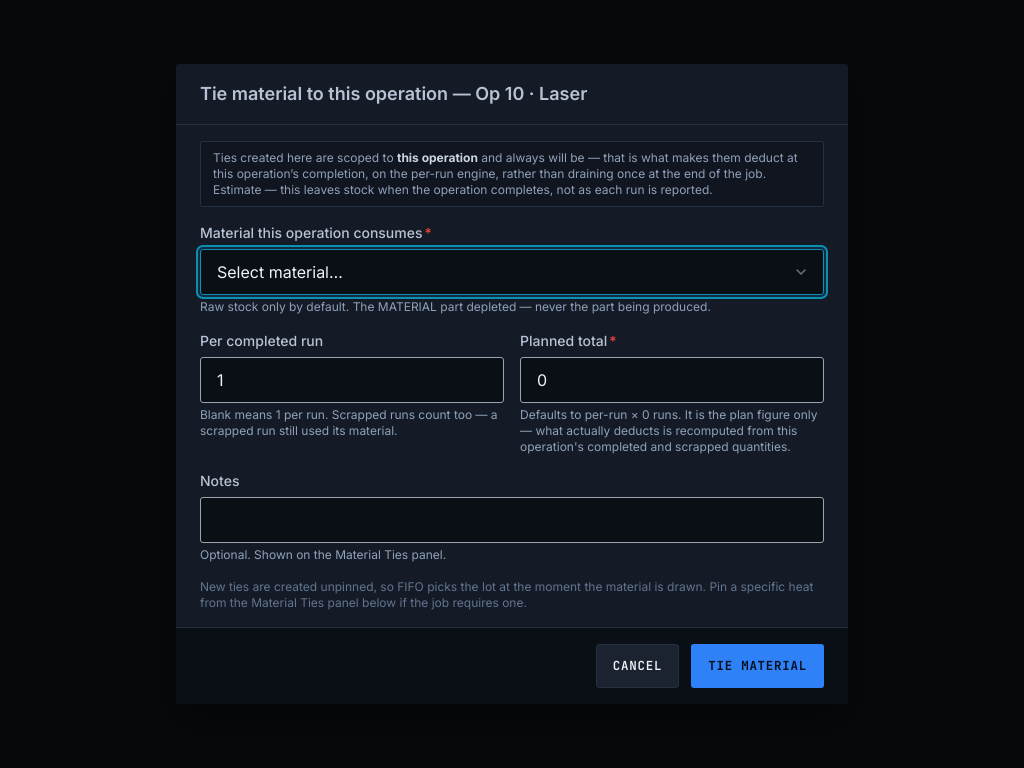
Test: OperationMaterialTieModal: the planned-total default › refuses to submit without a material or with a non-positive plan
Click the button "Tie material".
click(758, 666)  # box [691,644,824,688]
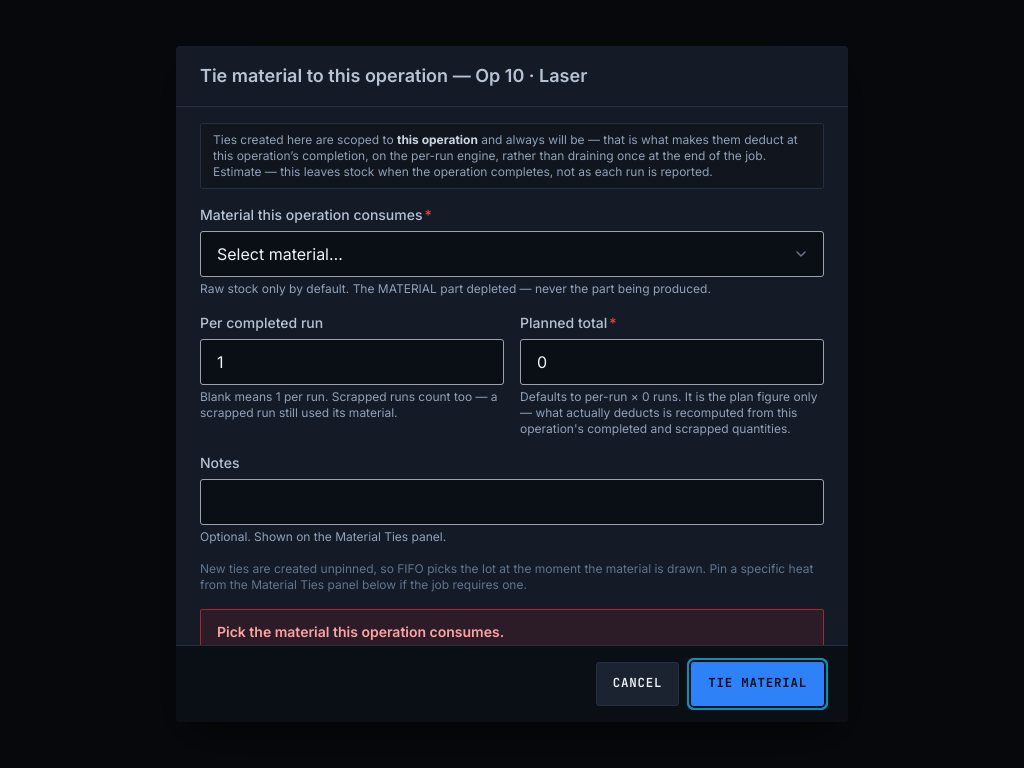
Expected: the message with test id "op-tie-error" shows "Pick the material this operation consumes", [217,623,504,640]
Select "SHT-.125-304 — .125 304 sheet" in the dropdown labelled "Material this operation consumes*" at (512, 254), box [200,231,824,277]
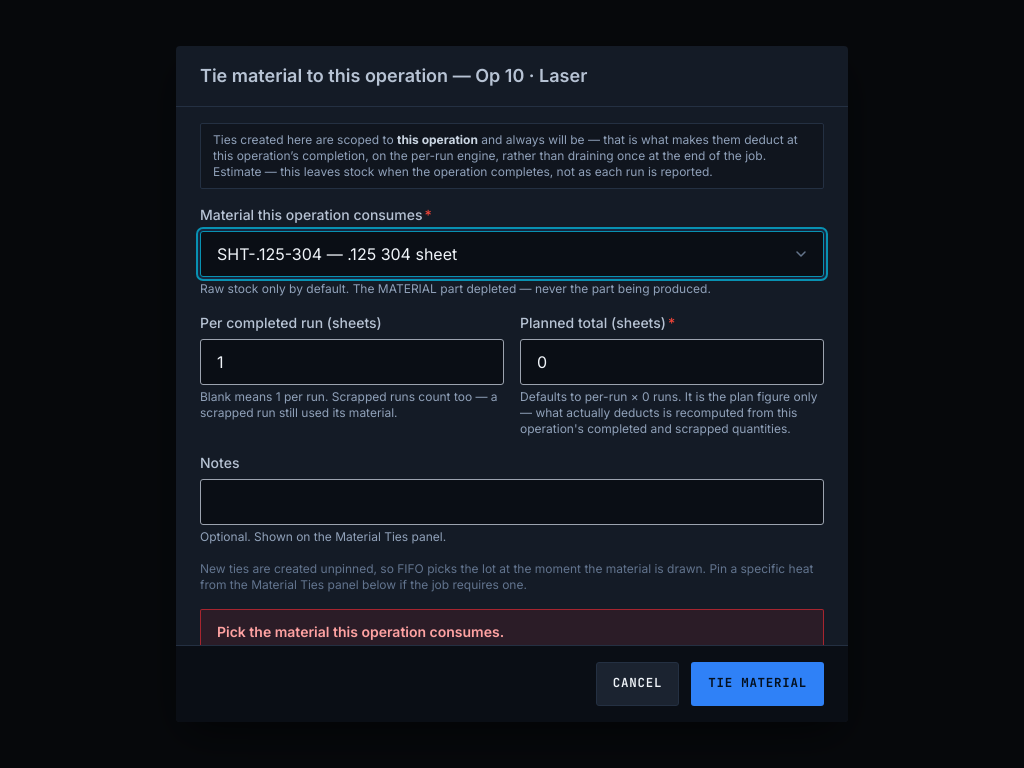
Click the button "Tie material".
click(758, 684)  # box [691,662,824,706]
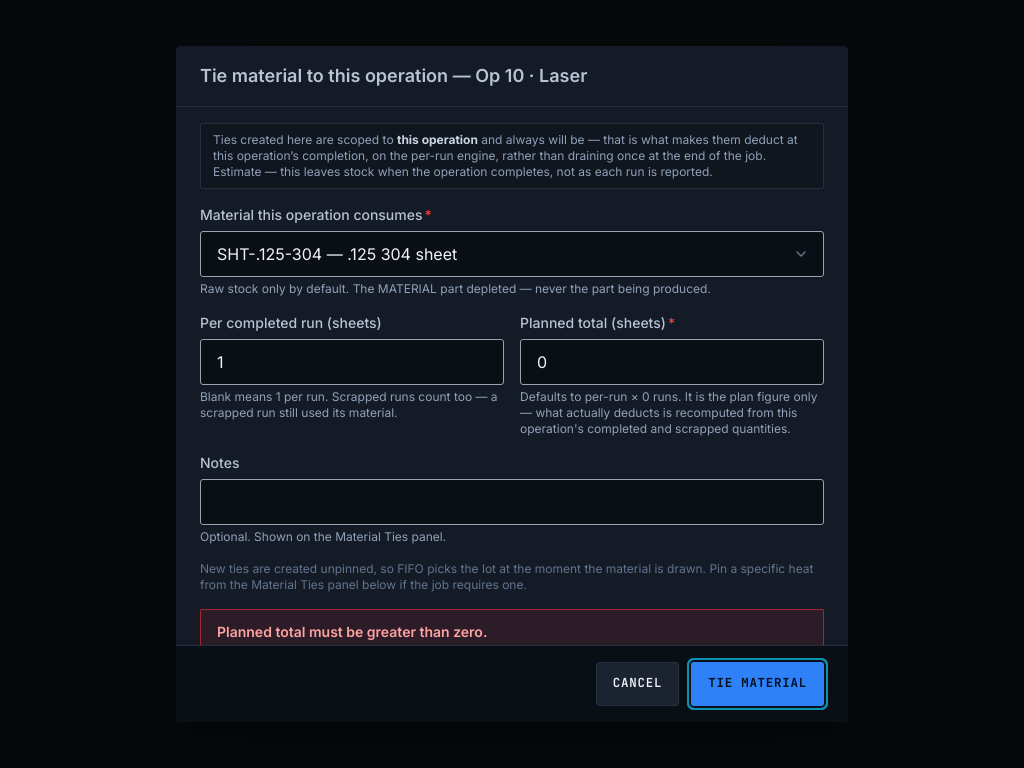
Expected: the message with test id "op-tie-error" shows "Planned total must be greater than zero", [217,623,487,640]
